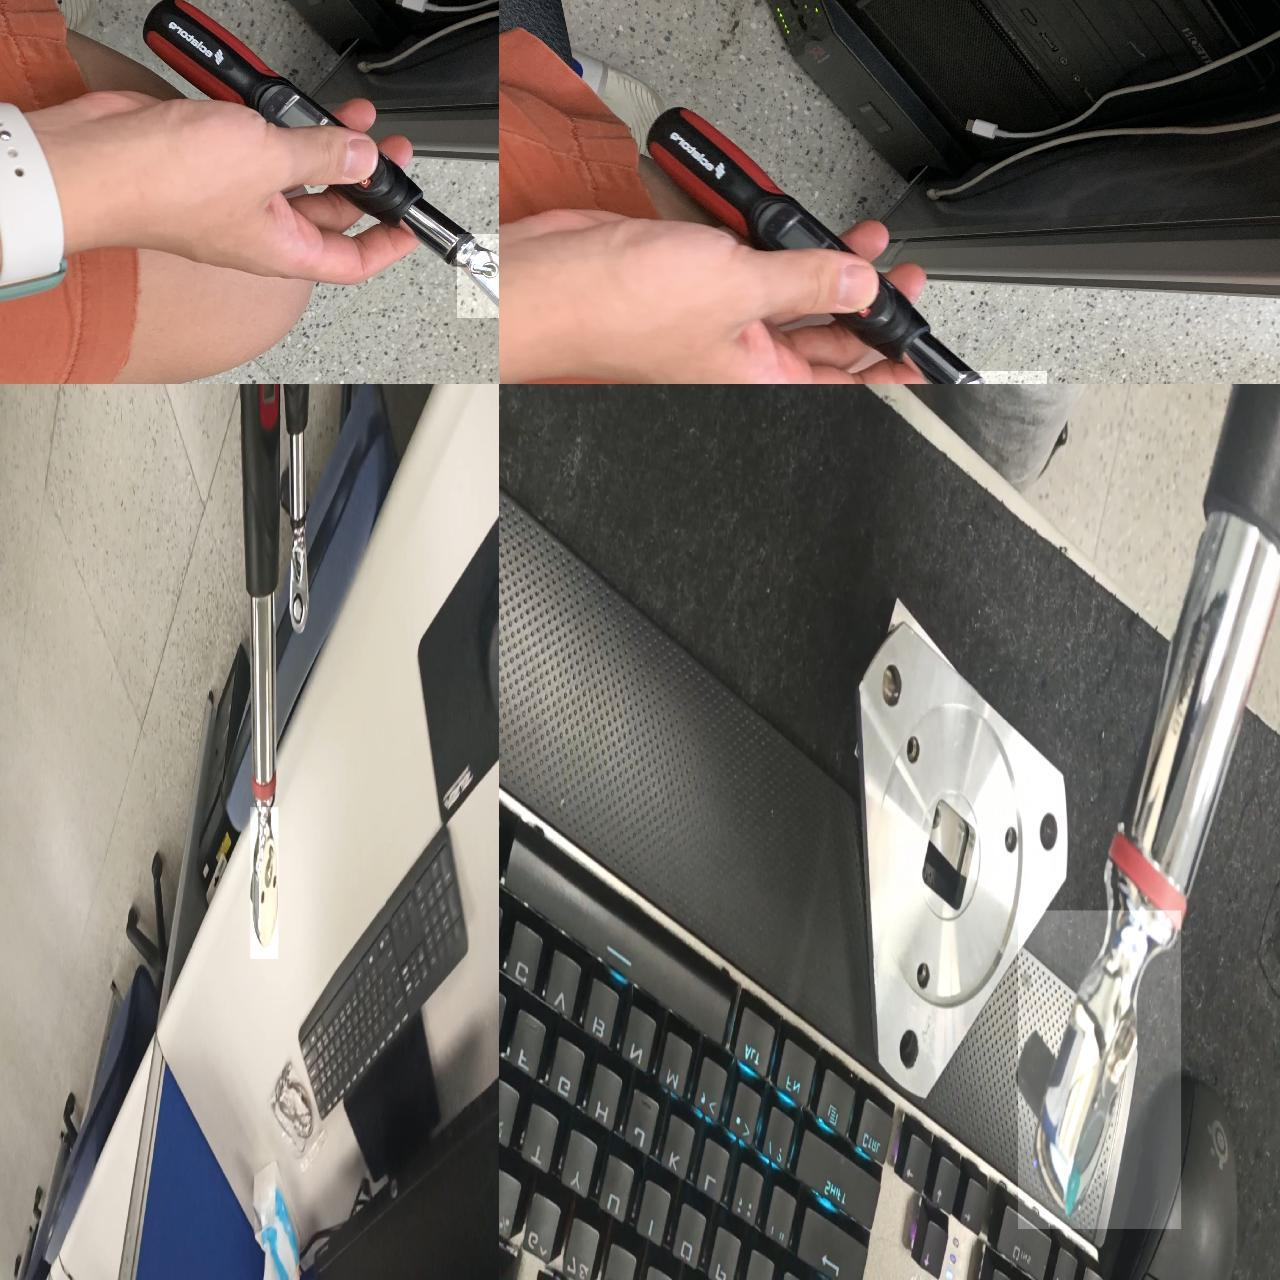Tool: (1017, 910, 1182, 1228), (251, 806, 279, 959), (457, 234, 499, 318), (286, 520, 311, 631)
